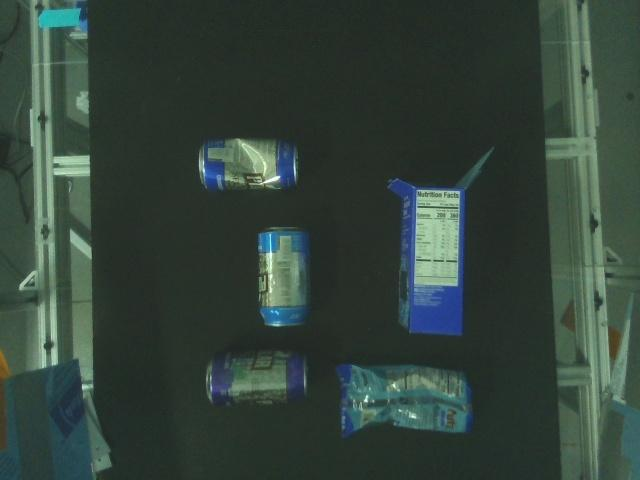cardboard: (388, 148, 494, 339)
metal: (198, 136, 302, 195), (205, 351, 308, 406), (259, 226, 309, 328)
plastic: (336, 364, 470, 439)
